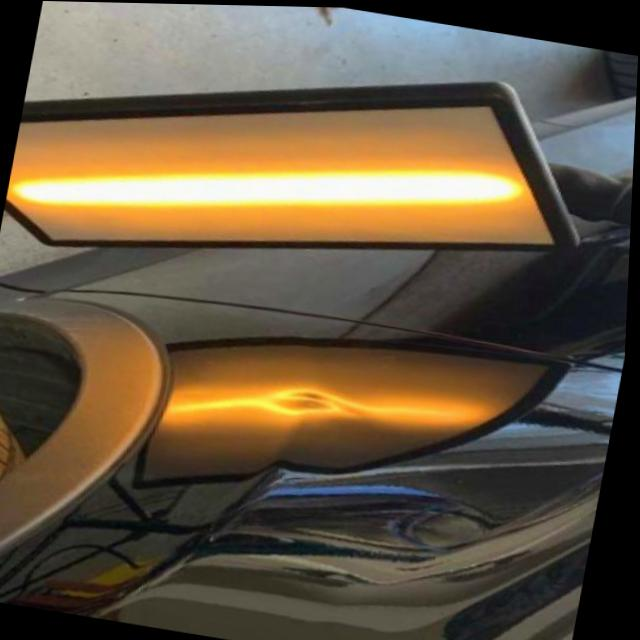PDR-Dent: (259, 369, 357, 429)
